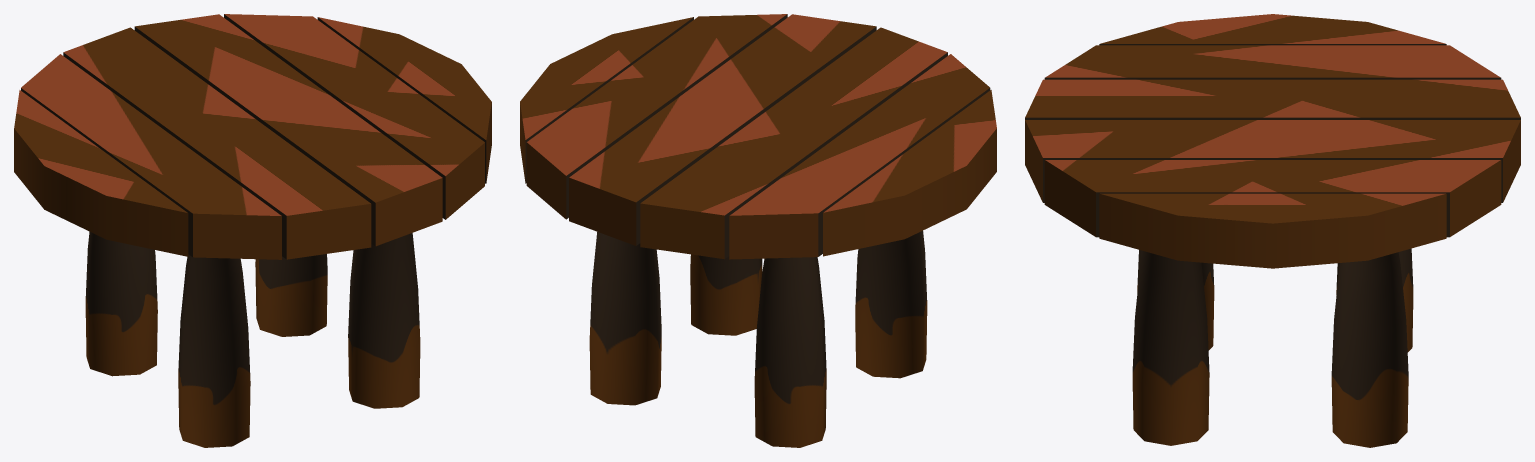
The model's file is PRMC_Mesa.FBX.
The picture shows the model from 3 angles, left to right: view 1: azimuth 30°, elevation 25°; view 2: azimuth 150°, elevation 25°; view 3: azimuth 270°, elevation 25°; orthographic projection. The views are drawn at different scales.
Visible parts, largest first — view 1: PRMC_Mesa; view 2: PRMC_Mesa; view 3: PRMC_Mesa.
Boxes of the visible parts, x1,y1,x2,y2 form: PRMC_Mesa: (14,14,491,447); PRMC_Mesa: (520,14,996,447); PRMC_Mesa: (1025,14,1520,447).
Bounding box in the file's own units: 1.2 × 0.72 × 1.2.
